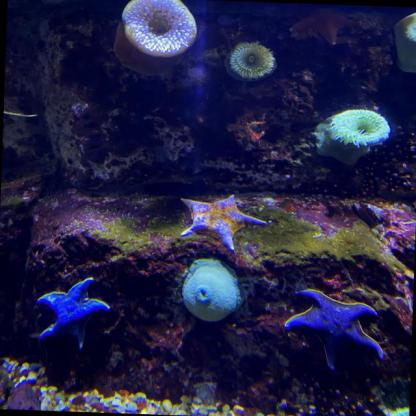starfish: (283, 288, 385, 372), (30, 273, 113, 352), (176, 193, 267, 253)
